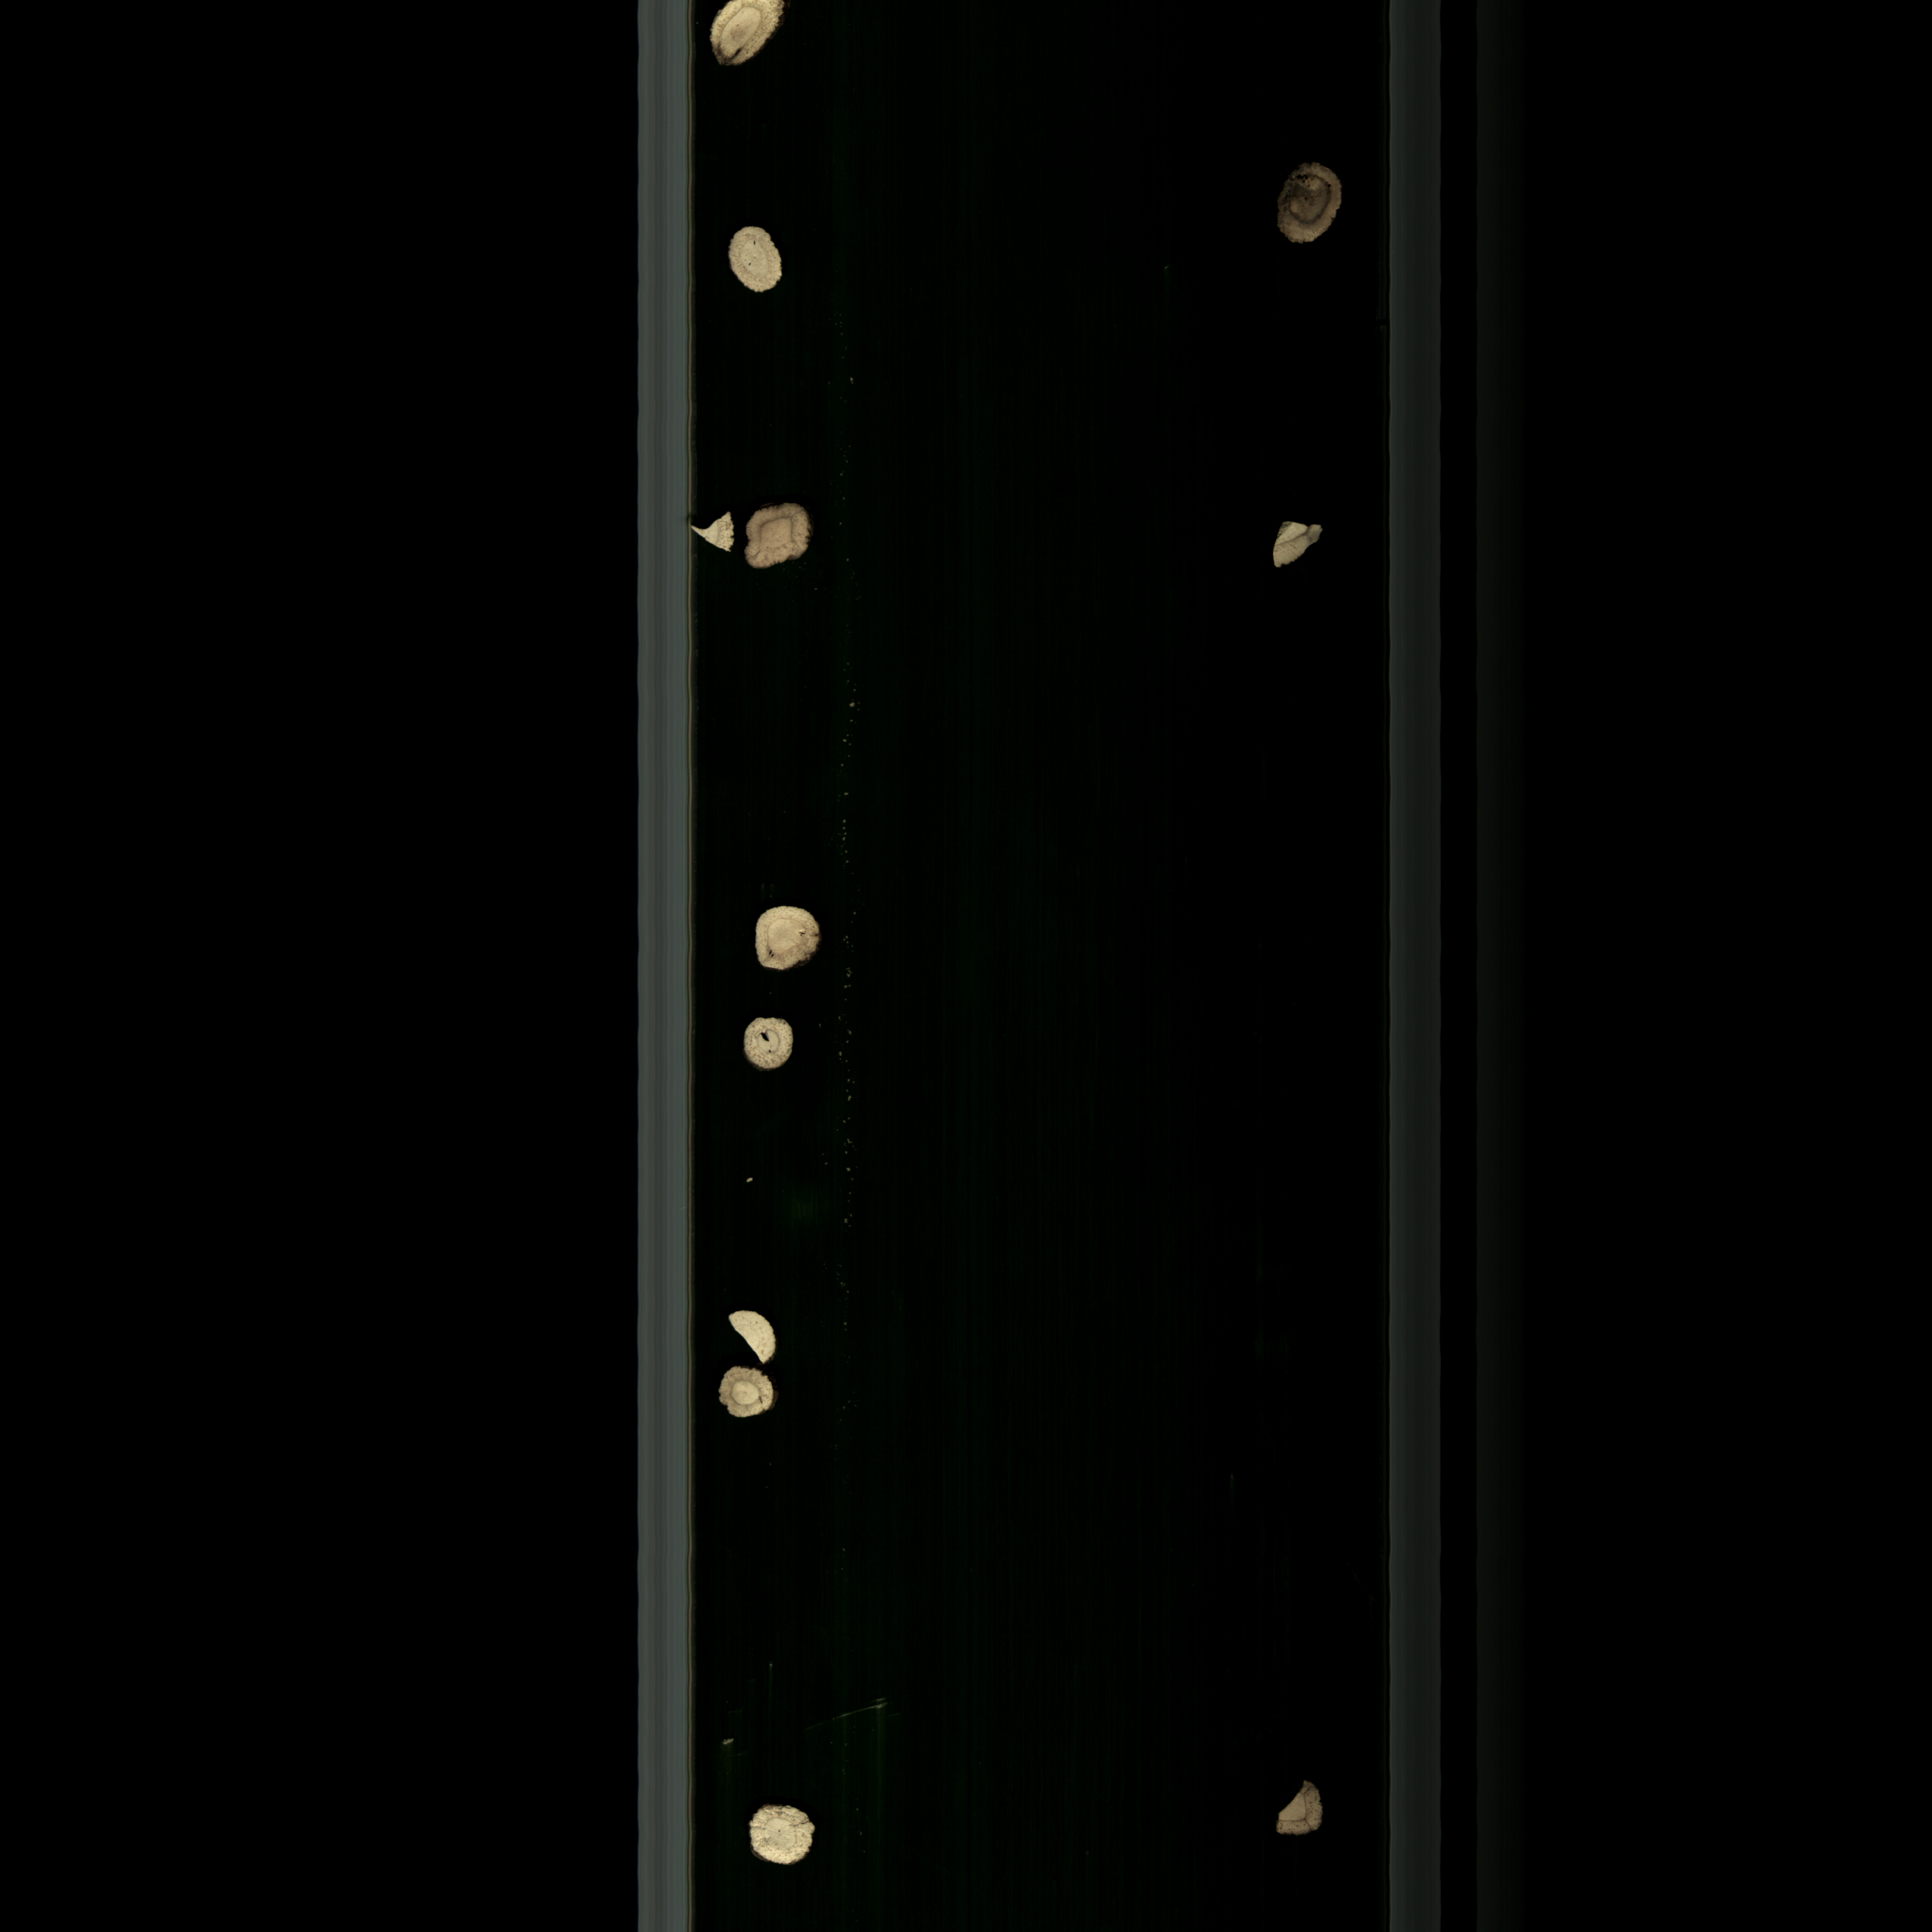bark: (1269, 156, 1346, 276)
debris: (711, 1300, 791, 1368)
dreg: (1269, 502, 1332, 598), (683, 506, 743, 566), (736, 1168, 782, 1196)
hole: (736, 1010, 812, 1085)
moldy: (699, 0, 794, 76), (708, 1357, 789, 1435), (1260, 1776, 1345, 1849)
